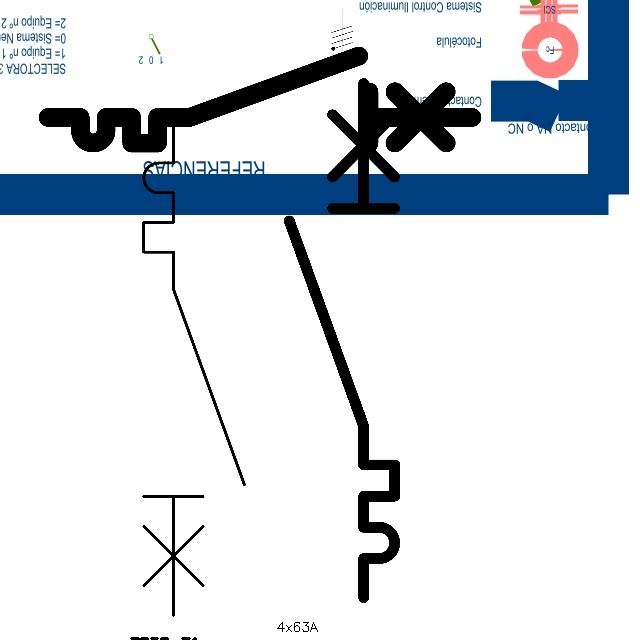interruptor_termomagnetico: (276, 70, 408, 611), (131, 113, 257, 628), (37, 45, 483, 154)
